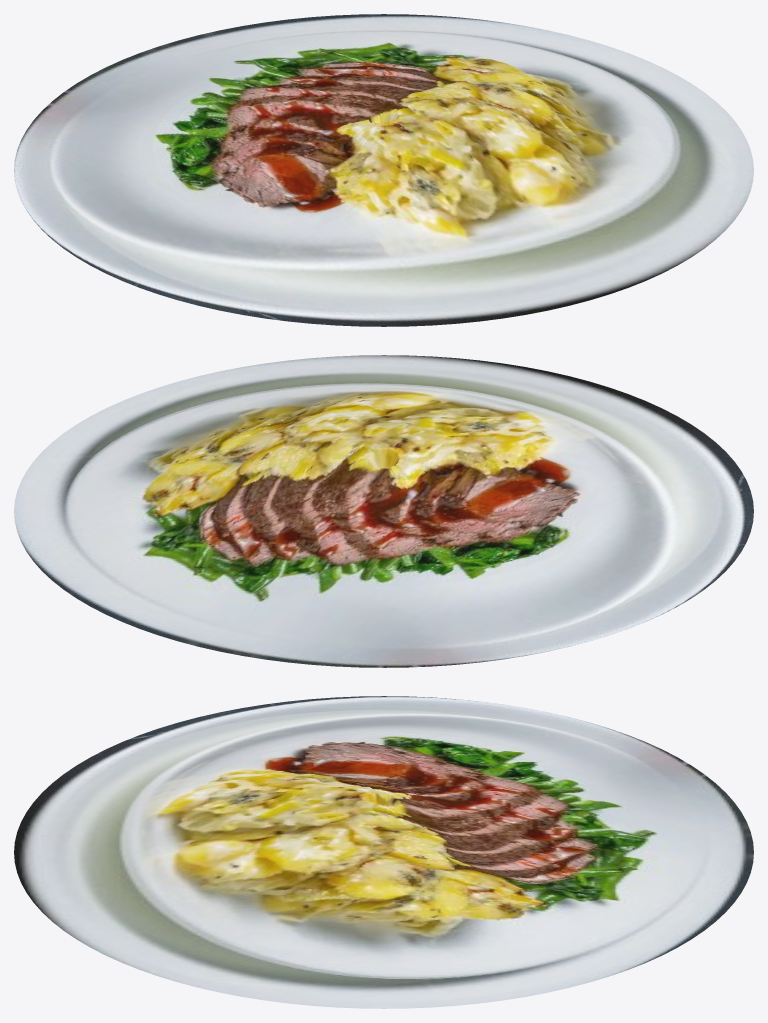
The model's file is plato-prototipo.glb.
3 views of the same model, one above another, from view 1: azimuth 30°, elevation 25°; view 2: azimuth 150°, elevation 25°; view 3: azimuth 270°, elevation 25° (orthographic).
Bounding box in the file's own units: 0.2744 × 0.0267 × 0.2744.
1 material, 1 textured.
